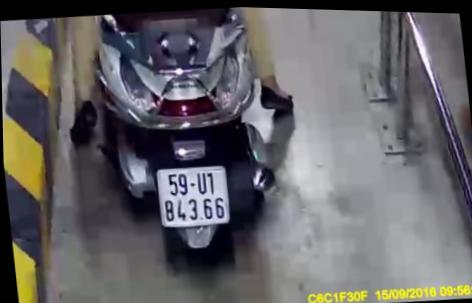LP: (153, 160, 232, 228)
